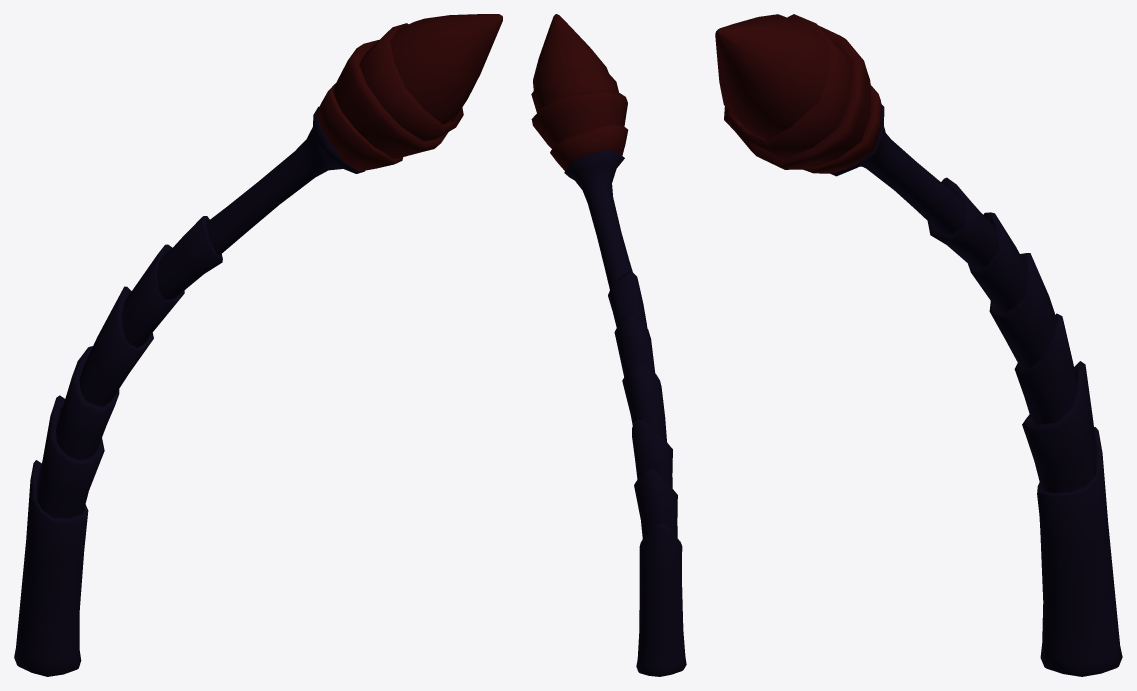
Rendered from Flwerbud.fbx.
The picture shows the model from 3 angles, left to right: view 1: azimuth 30°, elevation 25°; view 2: azimuth 150°, elevation 25°; view 3: azimuth 270°, elevation 25°; orthographic projection. The views are drawn at different scales.
Visible parts, largest first — view 1: Plant1.001; view 2: Plant1.001; view 3: Plant1.001.
Part boxes in pixels (x1,y1,x2,y2): Plant1.001: (14, 14, 502, 676); Plant1.001: (531, 14, 686, 676); Plant1.001: (715, 14, 1122, 676).
Size of the model in its own units: 347 by 694 by 321.
